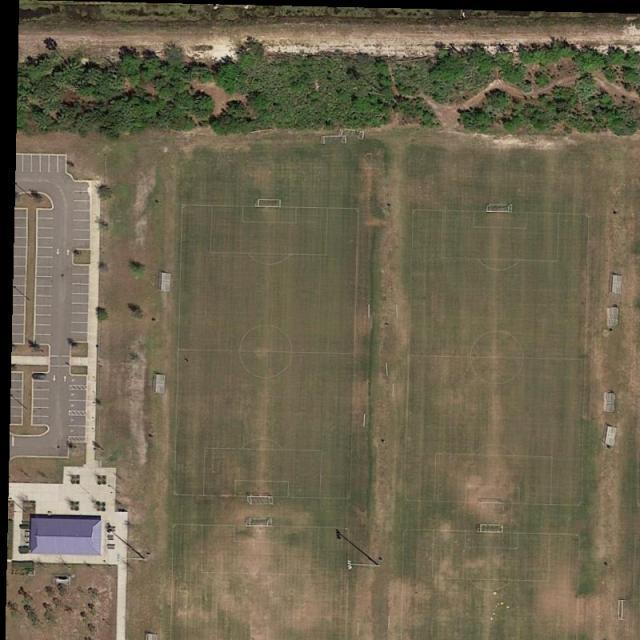vehicle: (32, 373, 47, 380)
